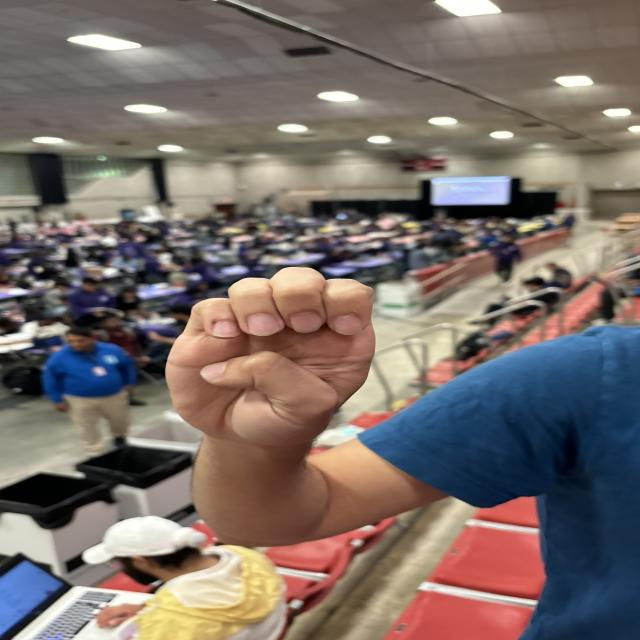E: (148, 262, 404, 458)
